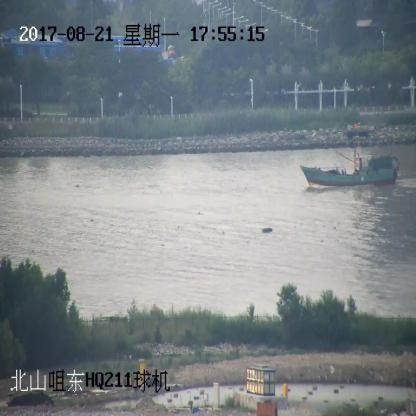Fishing Boat: (301, 126, 398, 186)
